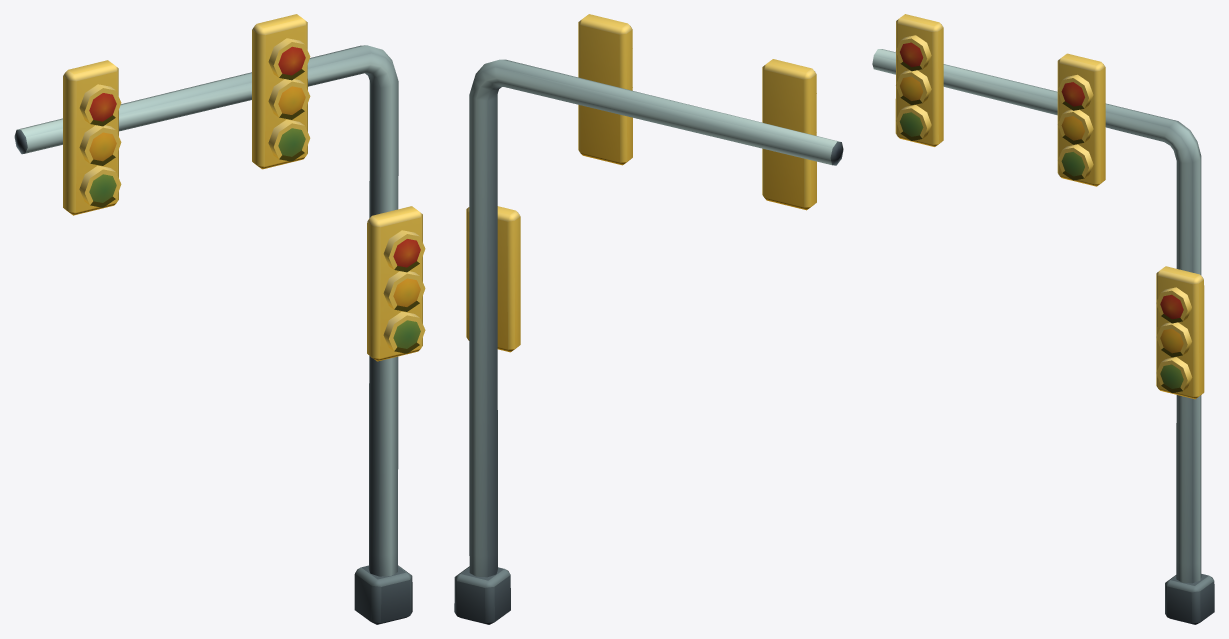
File: traffic_light_2.fbx
3 views of the same model, side by side, from view 1: azimuth 30°, elevation 25°; view 2: azimuth 150°, elevation 25°; view 3: azimuth 330°, elevation 25° (orthographic). The views are drawn at different scales.
Visible parts, largest first — view 1: traffic_light_2; view 2: traffic_light_2; view 3: traffic_light_2.
Part boxes in pixels (x1,y1,x2,y2): traffic_light_2: [14, 14, 425, 624]; traffic_light_2: [454, 14, 843, 624]; traffic_light_2: [872, 14, 1214, 624].
Bounding box in the file's own units: 311 × 478 × 49.86.
